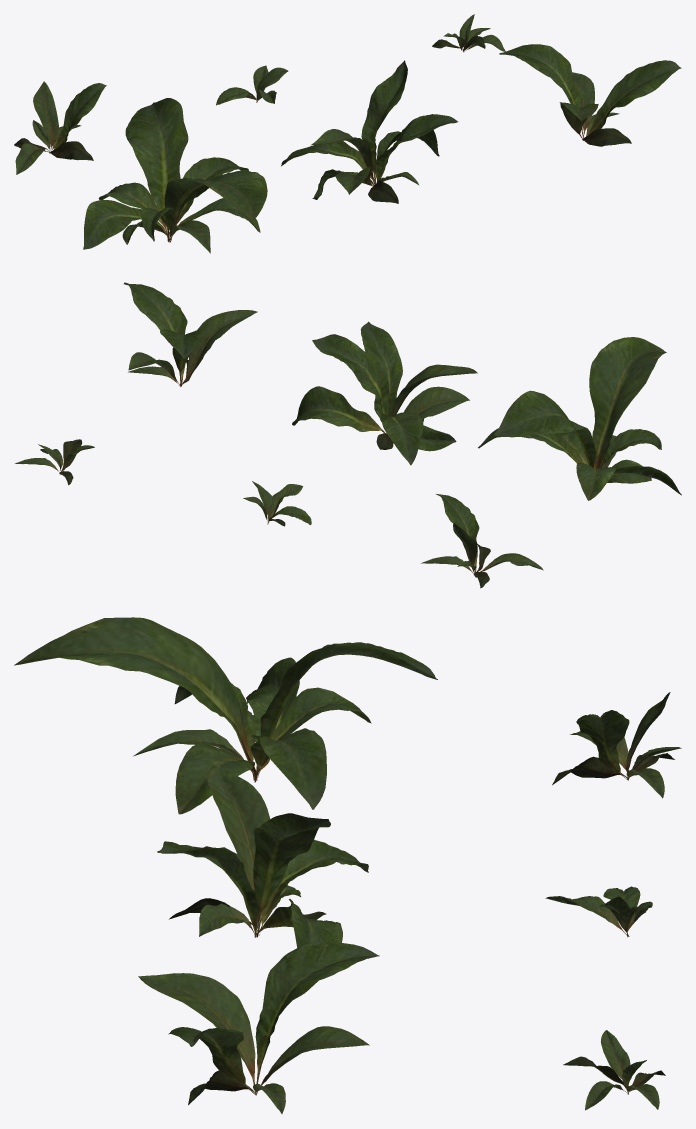
Rendered from th_anthurie.glb.
3 renders of one model, top to bottom at view 1: azimuth 30°, elevation 25°; view 2: azimuth 150°, elevation 25°; view 3: azimuth 270°, elevation 25°, orthographic. The views are drawn at different scales.
Parts seen in each view (by area): view 1: anthurium_botany_01_a, anthurium_botany_01_b, anthurium_botany_01_c, anthurium_botany_04_d, anthurium_botany_05_e, anthurium_botany_06_f; view 2: anthurium_botany_01_a, anthurium_botany_01_b, anthurium_botany_01_c, anthurium_botany_04_d, anthurium_botany_05_e, anthurium_botany_06_f; view 3: anthurium_botany_01_a, anthurium_botany_01_b, anthurium_botany_01_c, anthurium_botany_04_d, anthurium_botany_06_f, anthurium_botany_05_e.
Boxes of the visible parts, bbox=[...] form: anthurium_botany_01_a: bbox=[83, 98, 267, 253]; anthurium_botany_01_b: bbox=[281, 60, 458, 203]; anthurium_botany_01_c: bbox=[499, 44, 681, 146]; anthurium_botany_04_d: bbox=[14, 81, 106, 174]; anthurium_botany_05_e: bbox=[216, 65, 288, 105]; anthurium_botany_06_f: bbox=[432, 14, 505, 52]; anthurium_botany_01_a: bbox=[478, 337, 681, 500]; anthurium_botany_01_b: bbox=[292, 321, 477, 465]; anthurium_botany_01_c: bbox=[124, 282, 257, 386]; anthurium_botany_04_d: bbox=[421, 494, 543, 588]; anthurium_botany_05_e: bbox=[243, 481, 311, 526]; anthurium_botany_06_f: bbox=[15, 439, 94, 485]; anthurium_botany_01_a: bbox=[14, 617, 437, 814]; anthurium_botany_01_b: bbox=[157, 763, 368, 947]; anthurium_botany_01_c: bbox=[138, 942, 379, 1113]; anthurium_botany_04_d: bbox=[552, 692, 681, 798]; anthurium_botany_06_f: bbox=[563, 1030, 665, 1110]; anthurium_botany_05_e: bbox=[545, 886, 652, 937].
Bounding box in the file's own units: 2.8 × 0.4996 × 1.8.
Materials: 1 (1 with a texture image).
